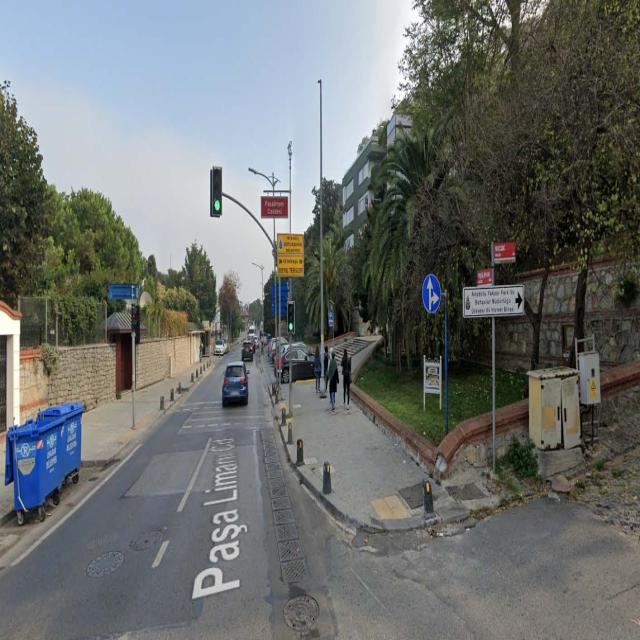ilerisag: (422, 274, 440, 312)
yesil: (212, 167, 222, 216), (287, 302, 294, 334)
